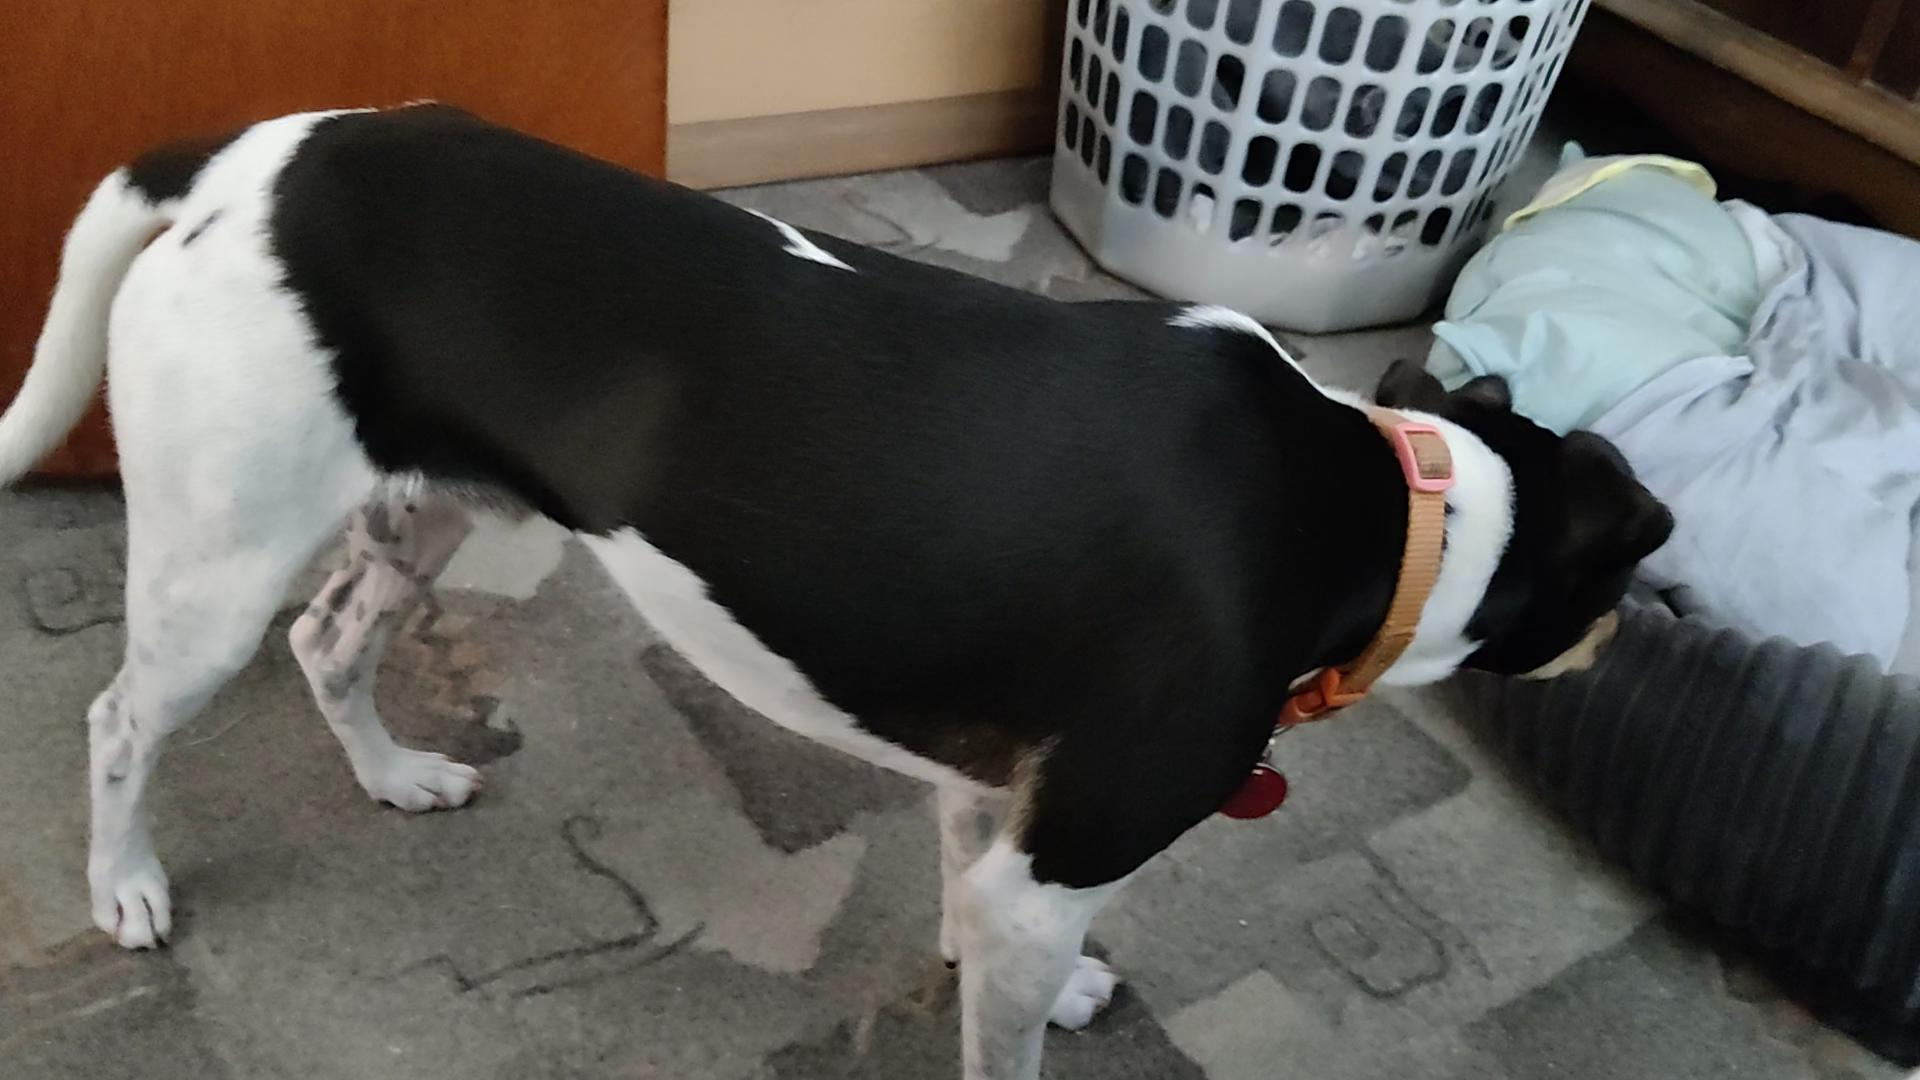Dog: (0, 98, 1680, 1079)
